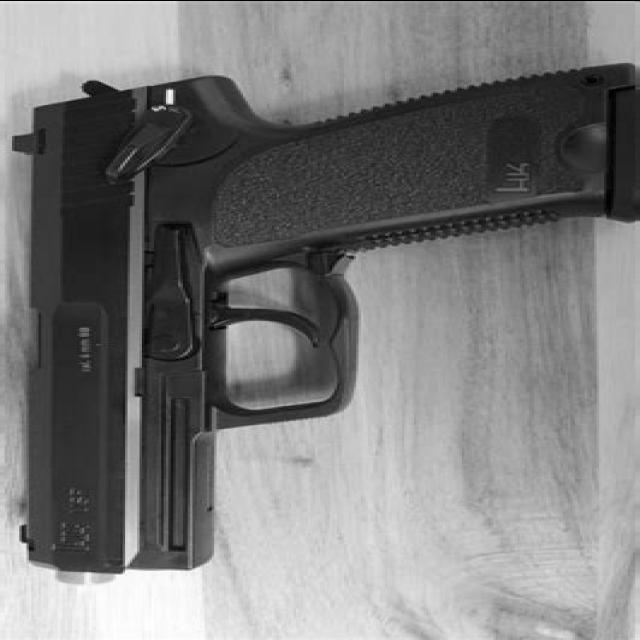weapons: (1, 21, 640, 592)
